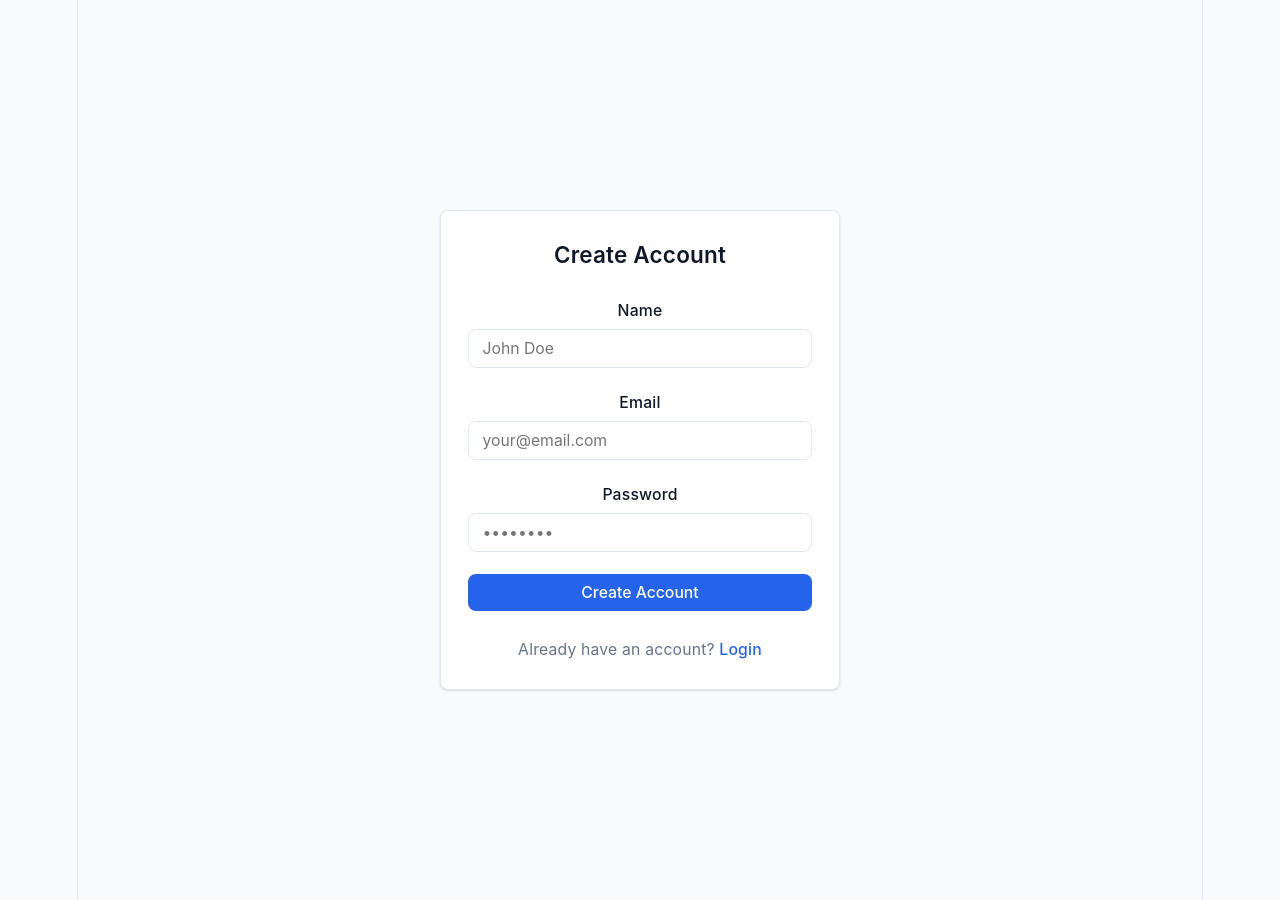
Test case: Register Component › should redirect to login on success
Type "Jane Doe" into the field labelled "Name". click: (640, 349)
box: [468,329,812,368]
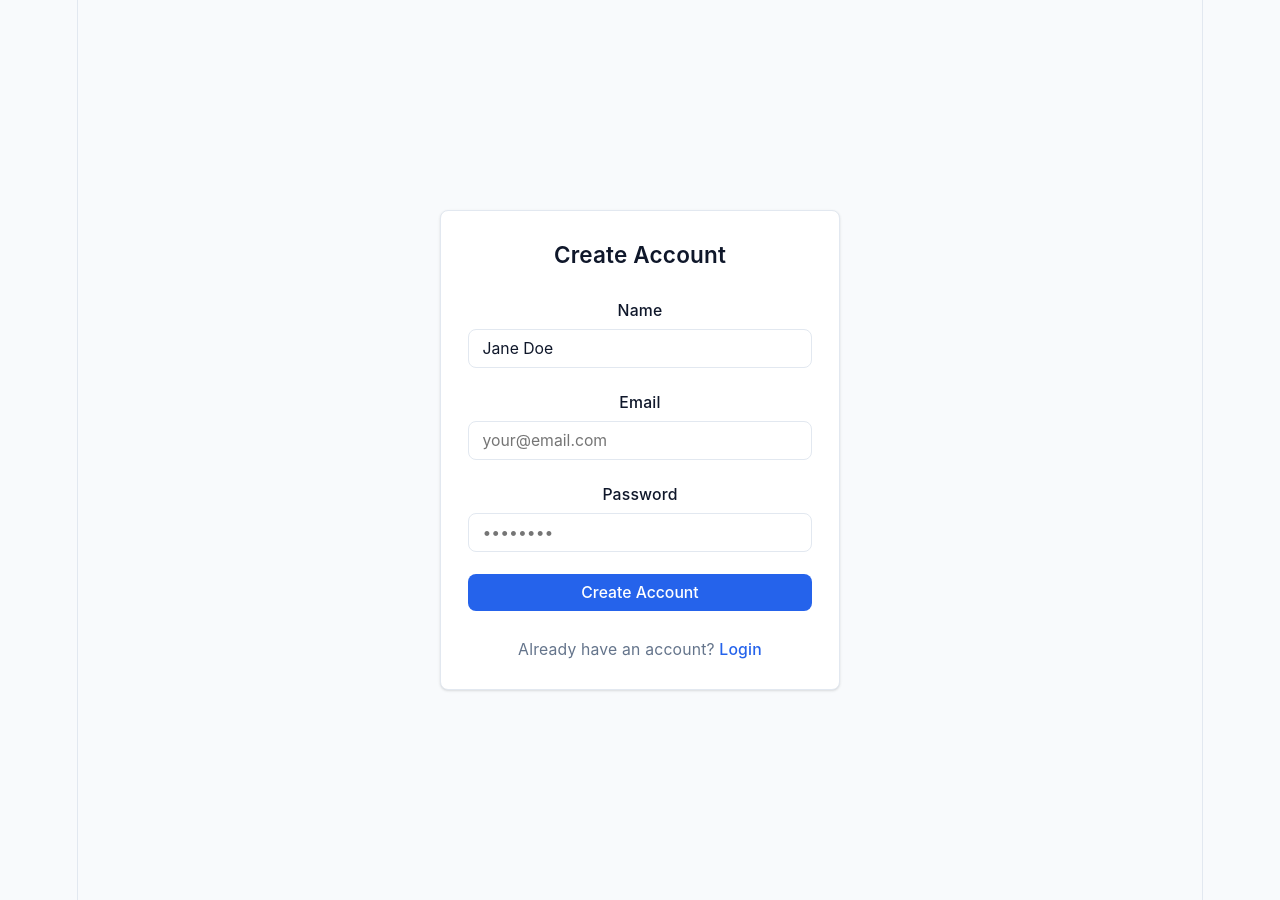
Type "jane@example.com" into the field labelled "Email". click: (640, 440)
box: [468,421,812,460]
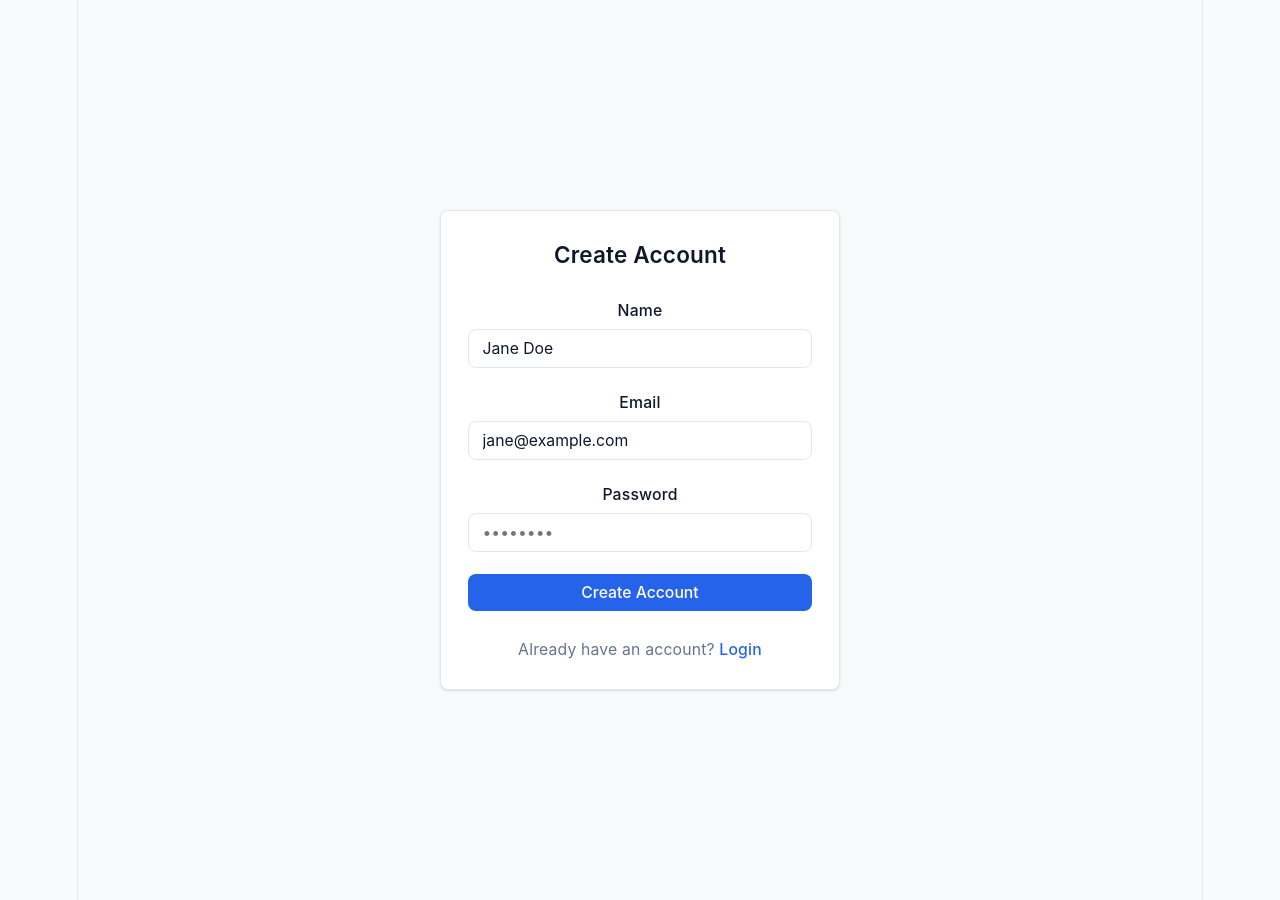
Type "password123" into the password field labelled "Password". click: (640, 532)
box: [468,513,812,552]
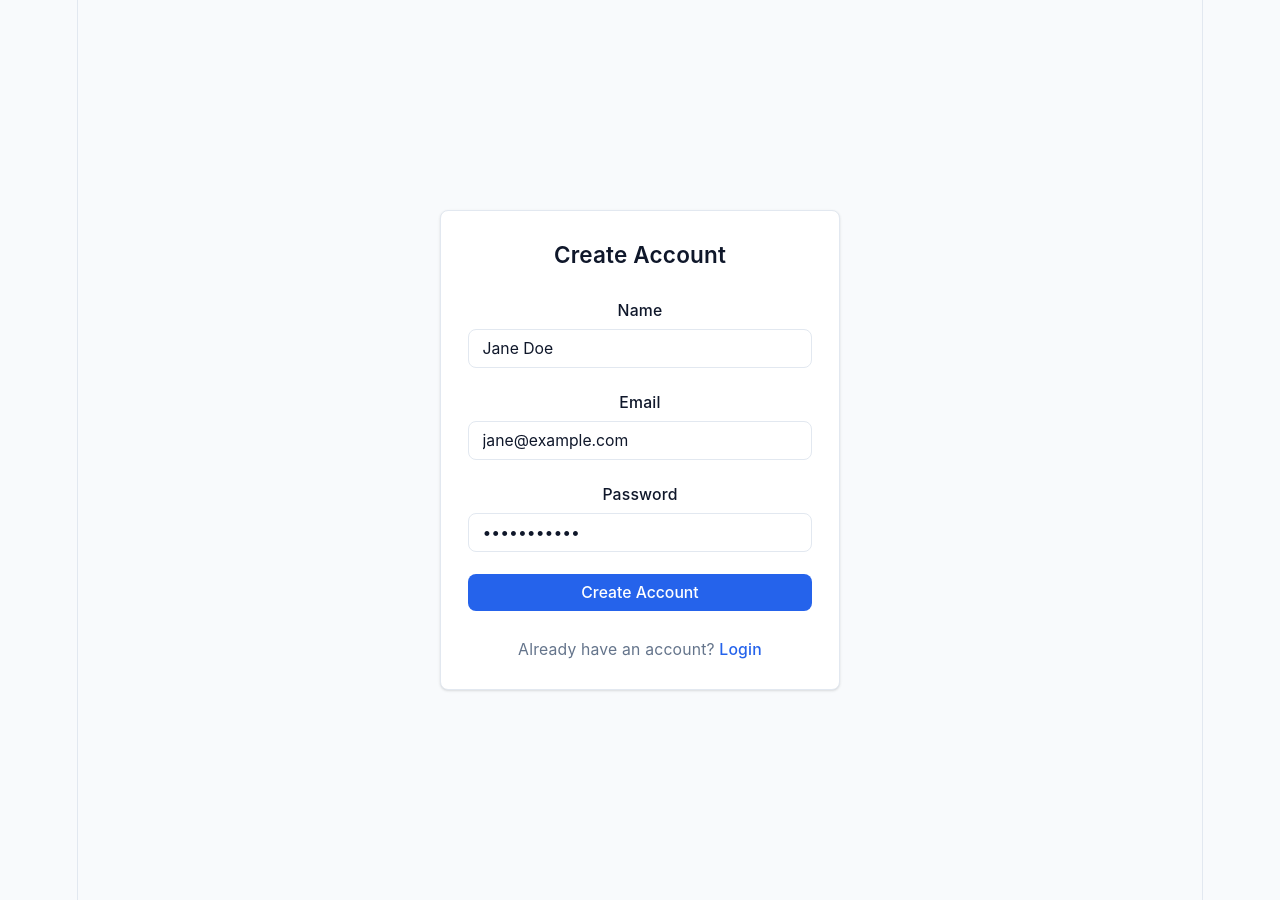
Click the button "Create Account". click: (640, 593)
box: [468,574,812,611]
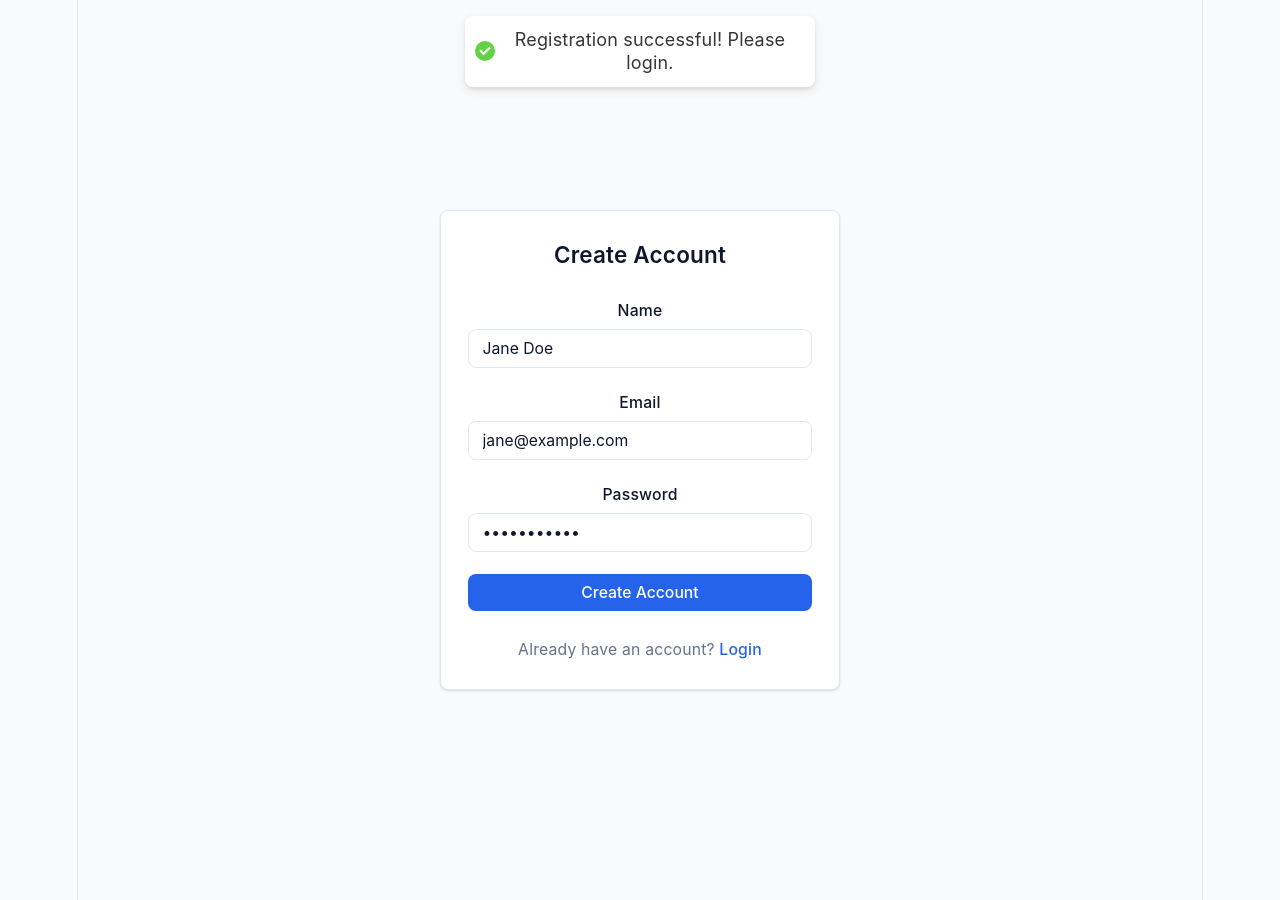
Check: the text "Registration successful! Please login." is shown, box [505,28,795,75]
